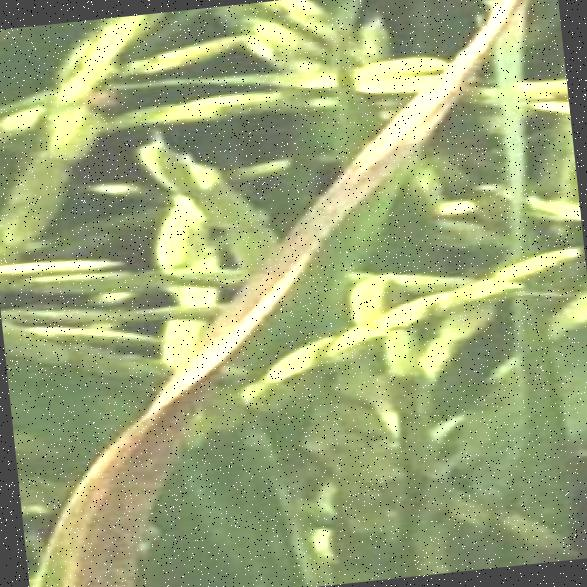Bacteria_Leaf_Blight: (191, 83, 440, 360)
